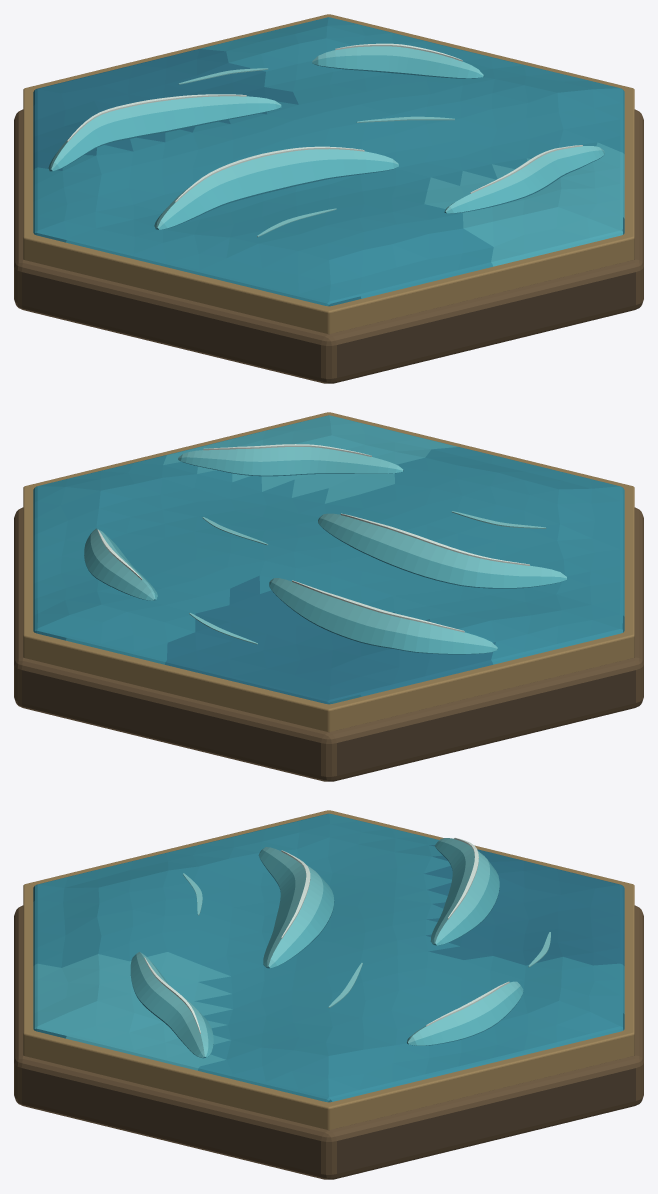
The model's file is sea.glb.
3 views of the same model, one above another, from view 1: azimuth 30°, elevation 25°; view 2: azimuth 150°, elevation 25°; view 3: azimuth 270°, elevation 25° (orthographic).
Parts seen in each view (by area): view 1: Hex_Sea_Terrain, Hex_Sea_Base, Hex_Sea_Rim, Hex_Sea_Swell_03, Hex_Sea_Swell_01, Hex_Sea_Swell_04, Hex_Sea_Swell_02, Hex_Sea_Foam_Crests, Hex_Sea_Gentle_Ripples; view 2: Hex_Sea_Terrain, Hex_Sea_Base, Hex_Sea_Rim, Hex_Sea_Swell_03, Hex_Sea_Swell_01, Hex_Sea_Swell_04, Hex_Sea_Swell_02, Hex_Sea_Foam_Crests, Hex_Sea_Gentle_Ripples; view 3: Hex_Sea_Terrain, Hex_Sea_Base, Hex_Sea_Rim, Hex_Sea_Swell_03, Hex_Sea_Swell_01, Hex_Sea_Swell_04, Hex_Sea_Swell_02, Hex_Sea_Foam_Crests, Hex_Sea_Gentle_Ripples.
Boxes of the visible parts, box(x1,y1,x2,y2) form: Hex_Sea_Terrain: box(33, 17, 624, 306); Hex_Sea_Base: box(14, 109, 643, 383); Hex_Sea_Rim: box(23, 14, 634, 333); Hex_Sea_Swell_03: box(154, 149, 398, 229); Hex_Sea_Swell_01: box(48, 96, 281, 171); Hex_Sea_Swell_04: box(444, 146, 604, 213); Hex_Sea_Swell_02: box(312, 46, 484, 78); Hex_Sea_Foam_Crests: box(67, 43, 582, 202); Hex_Sea_Gentle_Ripples: box(178, 68, 454, 237); Hex_Sea_Terrain: box(33, 415, 624, 704); Hex_Sea_Base: box(14, 507, 643, 781); Hex_Sea_Rim: box(23, 412, 634, 731); Hex_Sea_Swell_03: box(318, 513, 566, 588); Hex_Sea_Swell_01: box(269, 578, 497, 654); Hex_Sea_Swell_04: box(178, 447, 403, 476); Hex_Sea_Swell_02: box(84, 528, 157, 600); Hex_Sea_Foam_Crests: box(97, 444, 529, 632); Hex_Sea_Gentle_Ripples: box(189, 511, 546, 644); Hex_Sea_Terrain: box(33, 813, 624, 1102); Hex_Sea_Base: box(14, 905, 643, 1179); Hex_Sea_Rim: box(23, 810, 634, 1129); Hex_Sea_Swell_03: box(258, 847, 334, 968); Hex_Sea_Swell_01: box(430, 838, 499, 945); Hex_Sea_Swell_04: box(130, 952, 213, 1058); Hex_Sea_Swell_02: box(407, 981, 523, 1045); Hex_Sea_Foam_Crests: box(144, 837, 509, 1033); Hex_Sea_Gentle_Ripples: box(183, 873, 550, 1007).
Size of the model in its own units: 2.38 by 0.3898 by 2.08.
